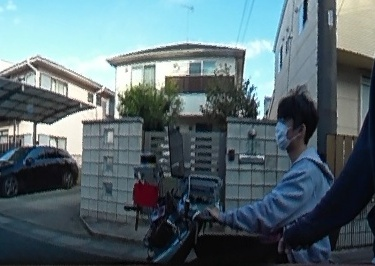person: (207, 91, 329, 266)
